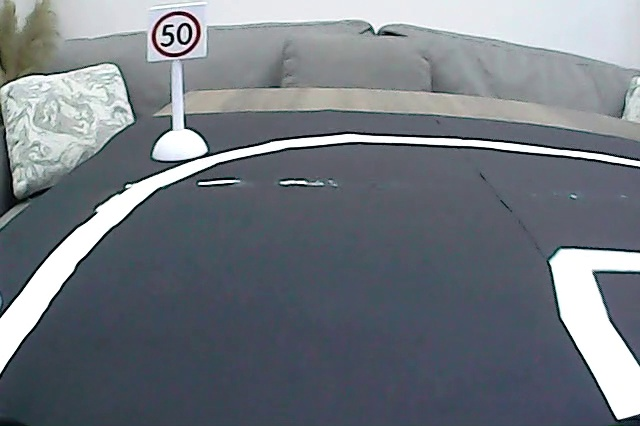speed limit 50: (150, 9, 203, 59)
